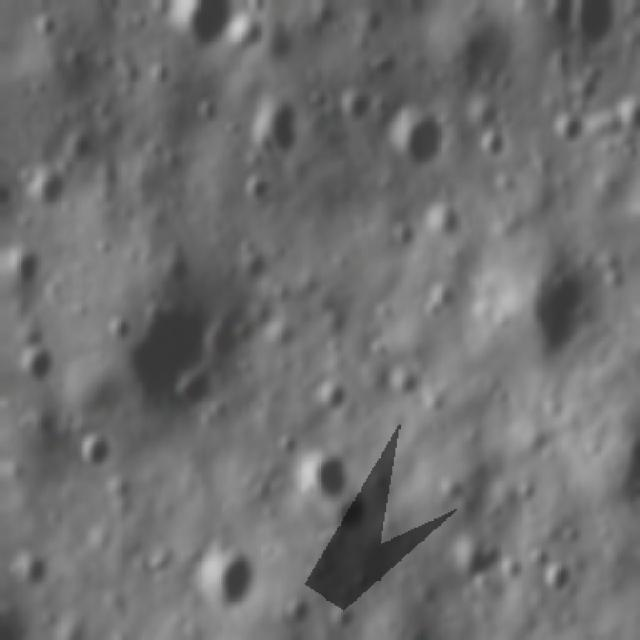crater: (372, 102, 448, 175), (190, 538, 252, 608), (240, 89, 295, 162), (174, 0, 232, 49), (6, 534, 49, 594), (560, 0, 615, 43), (59, 429, 112, 473), (302, 451, 347, 497), (532, 554, 578, 588), (9, 342, 49, 380)
